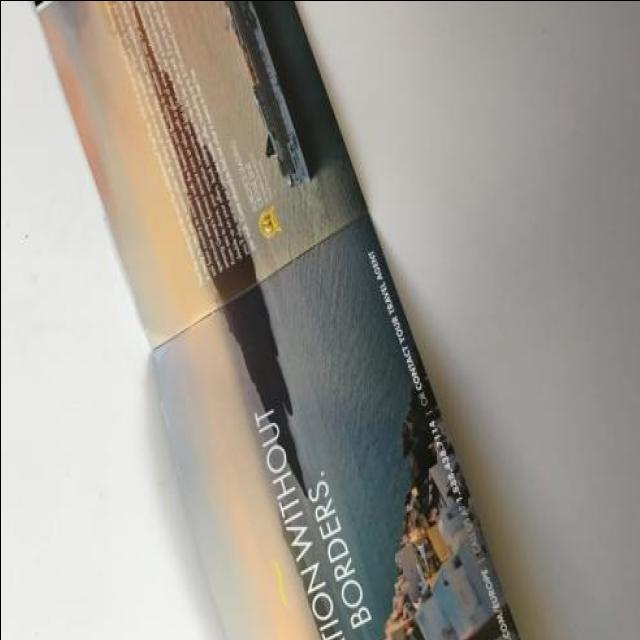kertas: (26, 0, 520, 640)
